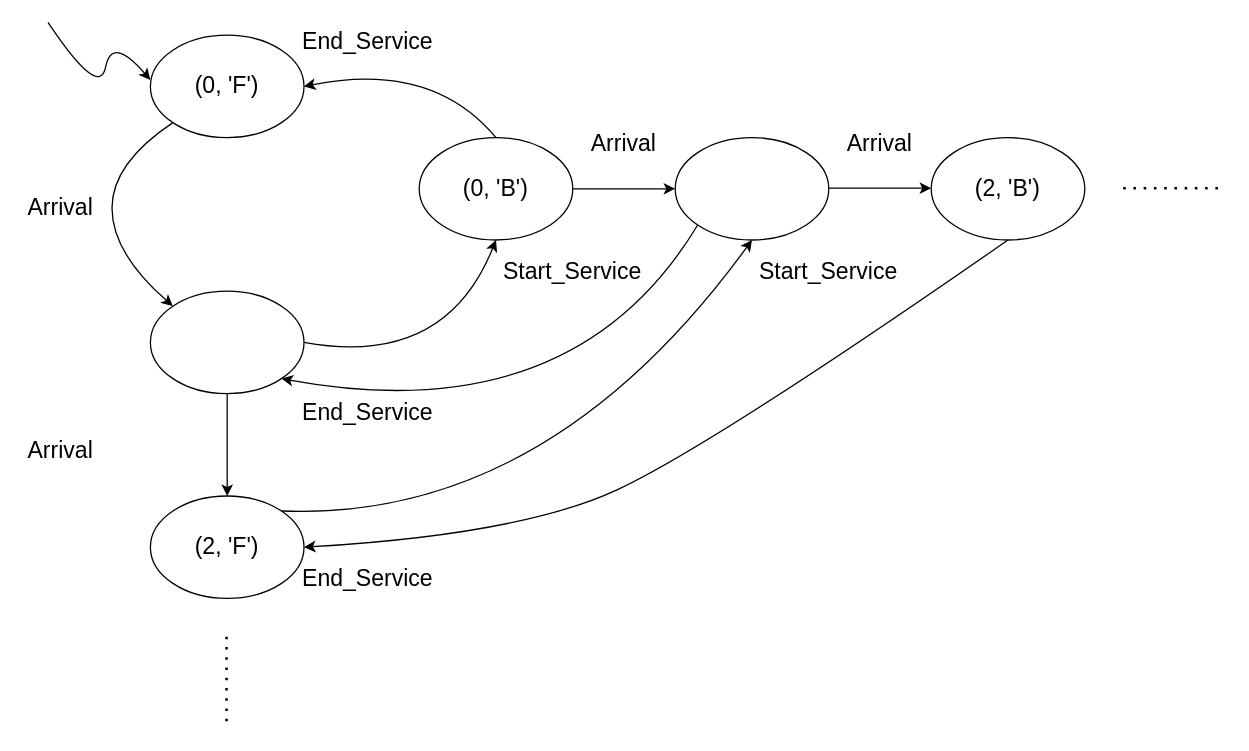
Image size: 1249x751. Some labels were removed from this diagram. The centre of each missing label's shape, as x and y in pixels:
(1, 'B'): (751,188)
(1, 'F'): (226,342)
